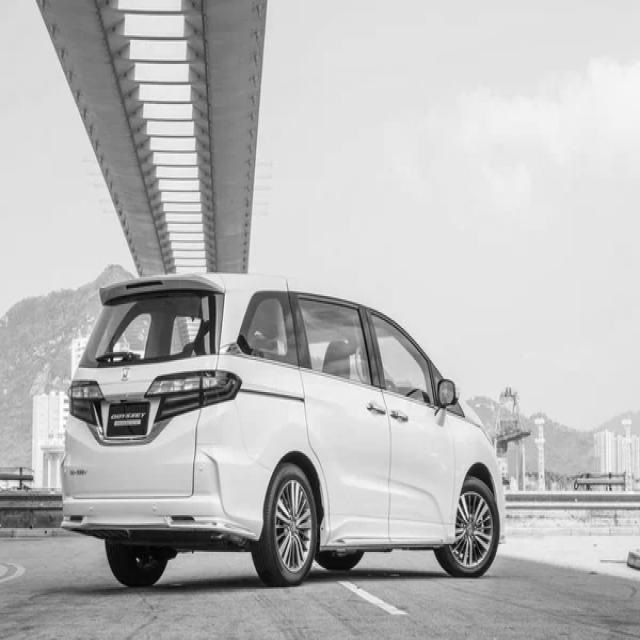Car: (61, 274, 507, 587)
